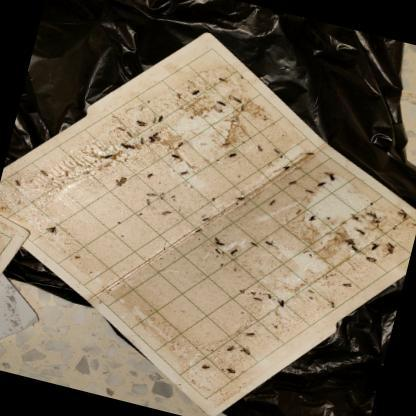prays_oleae: (43, 221, 62, 240)
